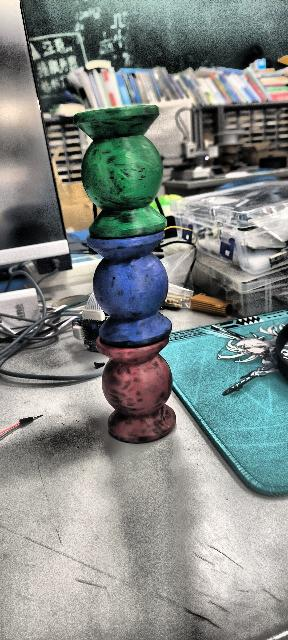blue: (86, 230, 172, 346)
green: (74, 102, 173, 242)
red: (95, 338, 180, 442)
